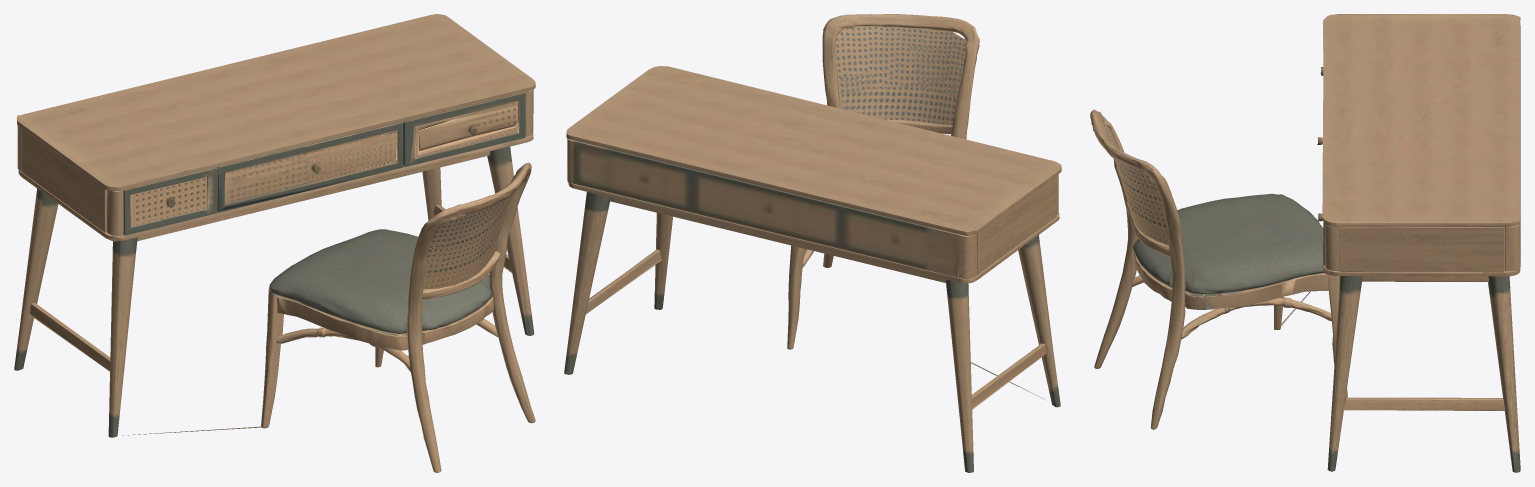
Rendered from indie-desk.glb.
The picture shows the model from 3 angles, left to right: view 1: azimuth 30°, elevation 25°; view 2: azimuth 150°, elevation 25°; view 3: azimuth 270°, elevation 25°; orthographic projection. The views are drawn at different scales.
Bounding box in the file's own units: 2 × 1.18 × 1.74.
1 material, 1 textured.
